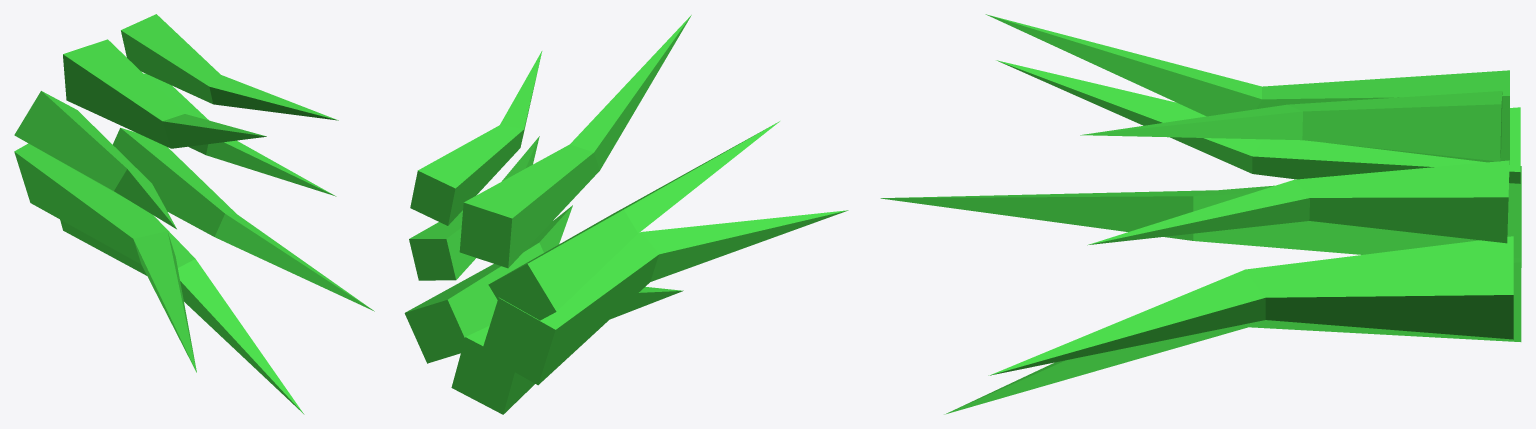
File: grass.gltf
3 views of the same model, side by side, from view 1: azimuth 30°, elevation 25°; view 2: azimuth 150°, elevation 25°; view 3: azimuth 270°, elevation 25° (orthographic). The views are drawn at different scales.
Visible parts, largest first — view 1: Grass; view 2: Grass; view 3: Grass.
Part boxes in pixels (x1=…): Grass: x1=14, y1=14, x2=374, y2=414; Grass: x1=404, y1=15, x2=848, y2=414; Grass: x1=880, y1=14, x2=1521, y2=414.
Bounding box in the file's own units: 0.1477 × 0.1771 × 0.268.
